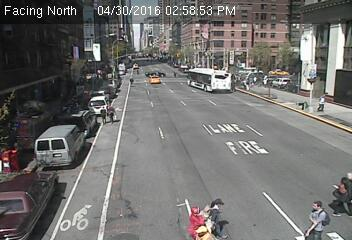neg: (255, 115, 294, 166), (214, 130, 245, 172), (142, 97, 171, 136), (112, 155, 139, 191), (51, 51, 78, 87), (50, 129, 75, 164), (188, 152, 210, 181), (26, 72, 47, 100), (77, 164, 98, 191), (195, 80, 215, 107), (98, 48, 116, 72), (87, 205, 104, 228), (256, 42, 271, 63), (151, 51, 166, 71), (211, 39, 222, 54)
pos: (320, 171, 351, 219), (204, 193, 231, 229), (304, 197, 328, 229), (195, 205, 217, 235), (180, 203, 200, 230), (312, 90, 332, 117), (106, 102, 120, 121), (94, 105, 108, 124)
